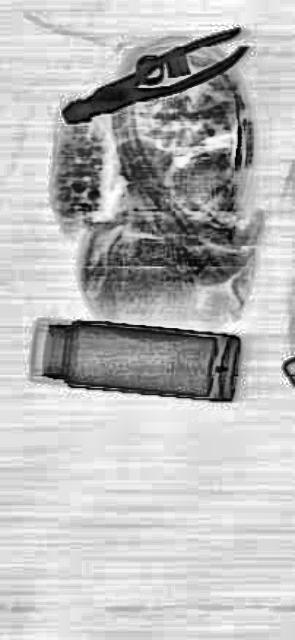Pliers: (59, 16, 249, 138)
